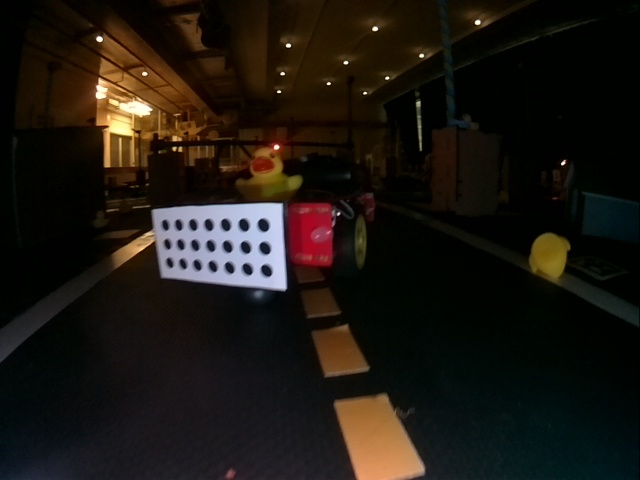Duckie: (236, 148, 301, 198), (530, 233, 571, 279)
Duckiebot: (154, 186, 368, 291)
